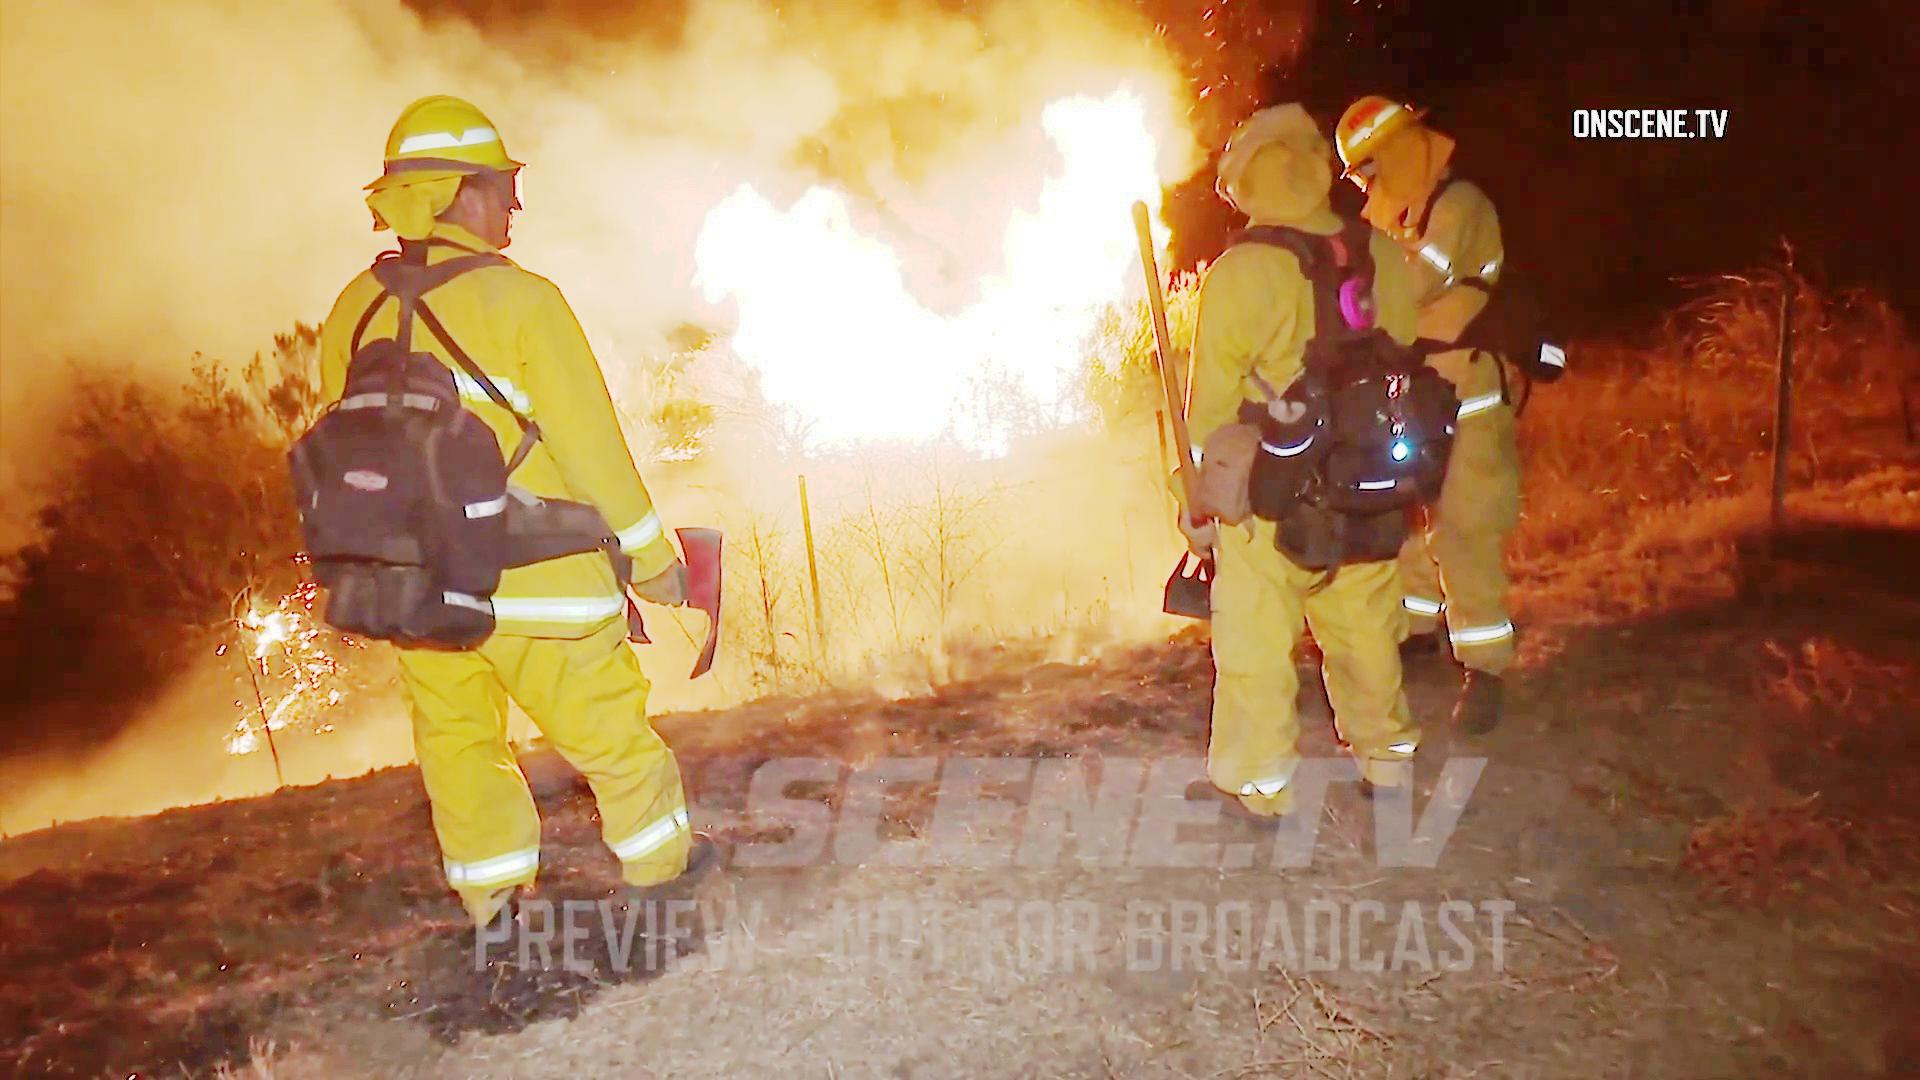fire: (721, 69, 1155, 433)
smoke: (0, 0, 240, 284)
